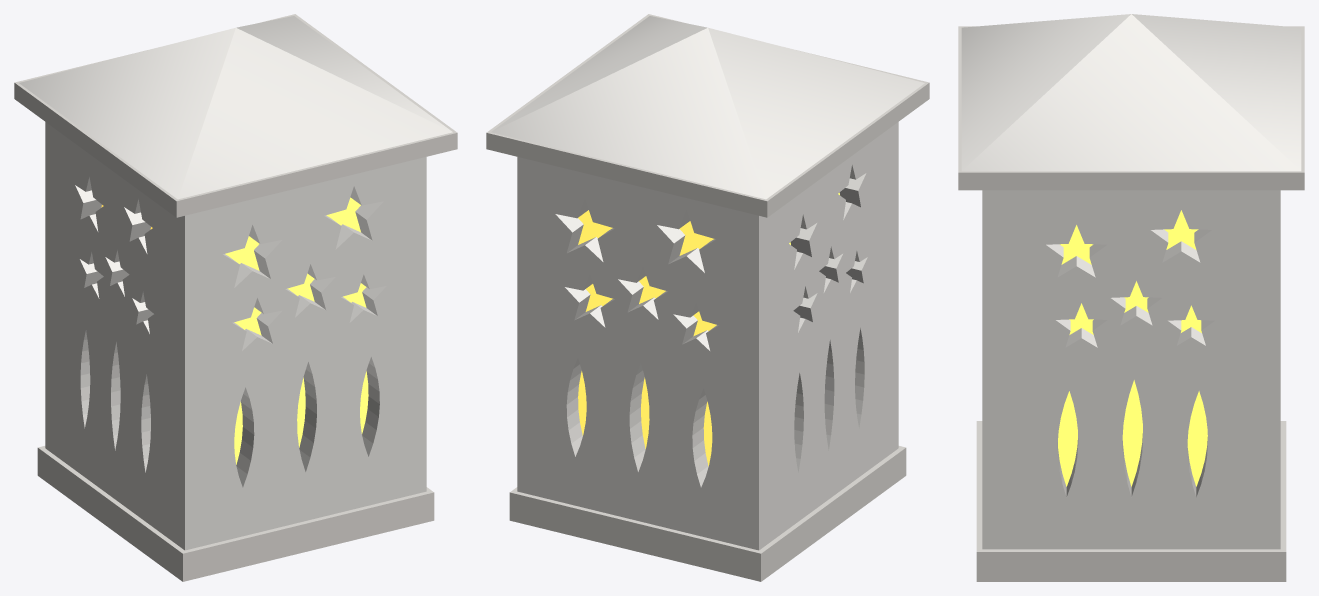
The picture shows the model from 3 angles, left to right: view 1: azimuth 30°, elevation 25°; view 2: azimuth 150°, elevation 25°; view 3: azimuth 270°, elevation 25°; orthographic projection. The views are drawn at different scales.
Visible parts, largest first — view 1: paroi-avant, toit-pyramide, paroi-gauche, socle, toit-corniche, paroi-arriere, lumiere-foyer; view 2: paroi-arriere, toit-pyramide, paroi-gauche, socle, toit-corniche, paroi-avant, lumiere-foyer; view 3: paroi-droite, toit-pyramide, socle, paroi-avant, paroi-arriere, toit-corniche, lumiere-foyer.
Part boxes in pixels (bbox=[...]): paroi-avant: bbox=[173, 157, 426, 550]; toit-pyramide: bbox=[19, 16, 452, 199]; paroi-gauche: bbox=[56, 130, 173, 541]; socle: bbox=[37, 446, 434, 581]; toit-corniche: bbox=[14, 14, 457, 217]; paroi-arriere: bbox=[45, 122, 56, 456]; lumiere-foyer: bbox=[101, 197, 368, 464]; paroi-arriere: bbox=[517, 157, 770, 550]; toit-pyramide: bbox=[491, 16, 924, 199]; paroi-gauche: bbox=[770, 130, 887, 541]; socle: bbox=[509, 446, 906, 581]; toit-corniche: bbox=[486, 14, 929, 217]; paroi-avant: bbox=[887, 122, 898, 456]; lumiere-foyer: bbox=[578, 192, 839, 466]; paroi-droite: bbox=[1006, 190, 1256, 549]; toit-pyramide: bbox=[961, 14, 1301, 171]; socle: bbox=[976, 421, 1286, 581]; paroi-avant: bbox=[982, 190, 1006, 549]; paroi-arriere: bbox=[1256, 190, 1280, 549]; toit-corniche: bbox=[958, 26, 1304, 190]; lumiere-foyer: bbox=[1058, 210, 1207, 486].
Size of the model in its own units: 0.25 by 0.4 by 0.25.
